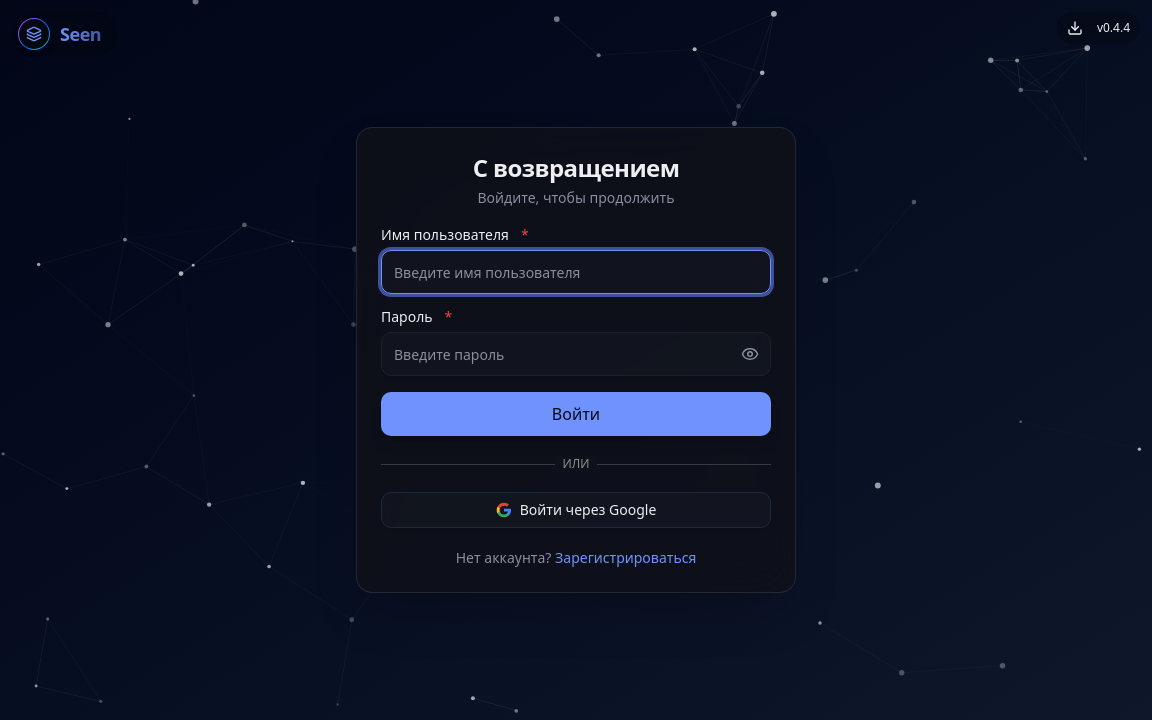
LoginPage › should display error on invalid credentials
This screenshot has width=1152, height=720.
Note: Use valid inputs to pass Zod validation, but invalid for API
Type "wronguser" into the field labelled "Имя пользователя *" at (576, 272), box [381,250,771,294]
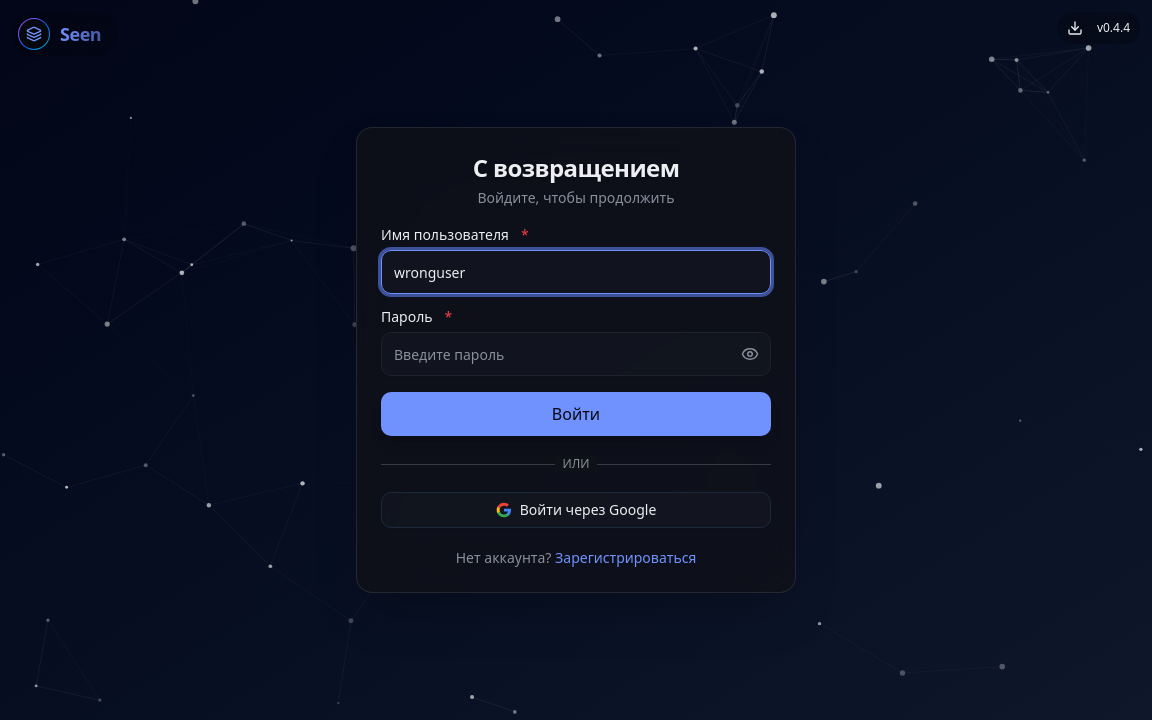
Type "wrongpassword" into the password field labelled "Пароль *" at (576, 354), box [381,332,771,376]
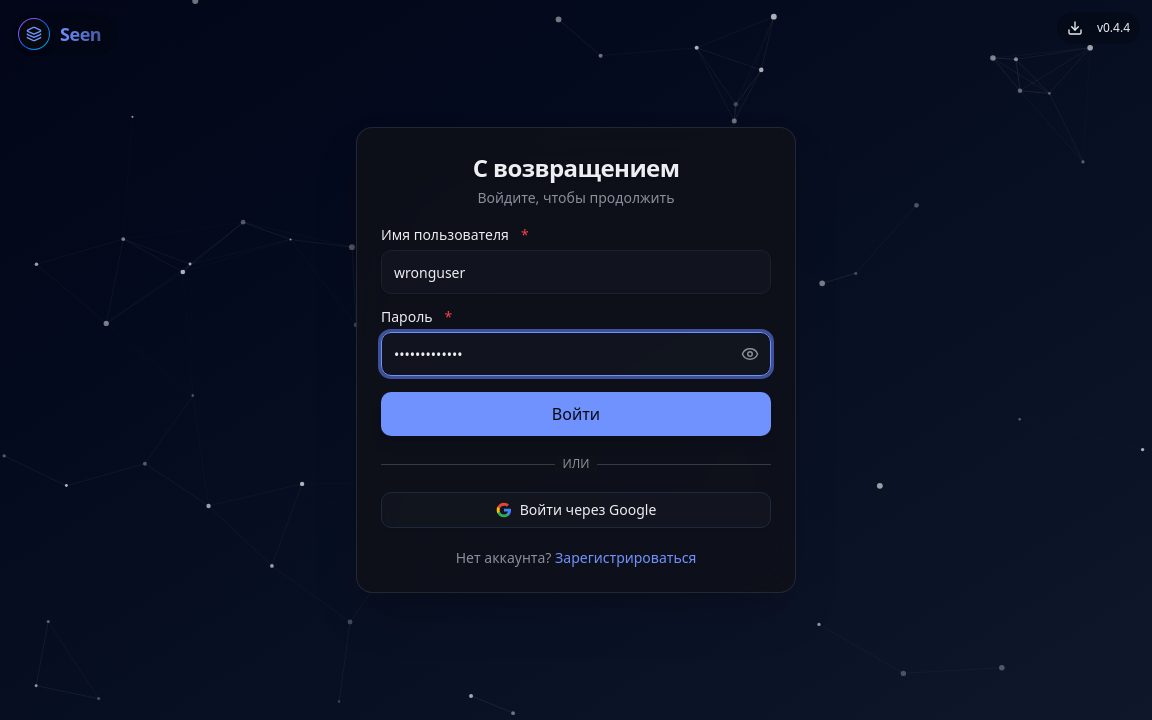
Click the button "Войти" at (576, 414), box [381,392,771,436]
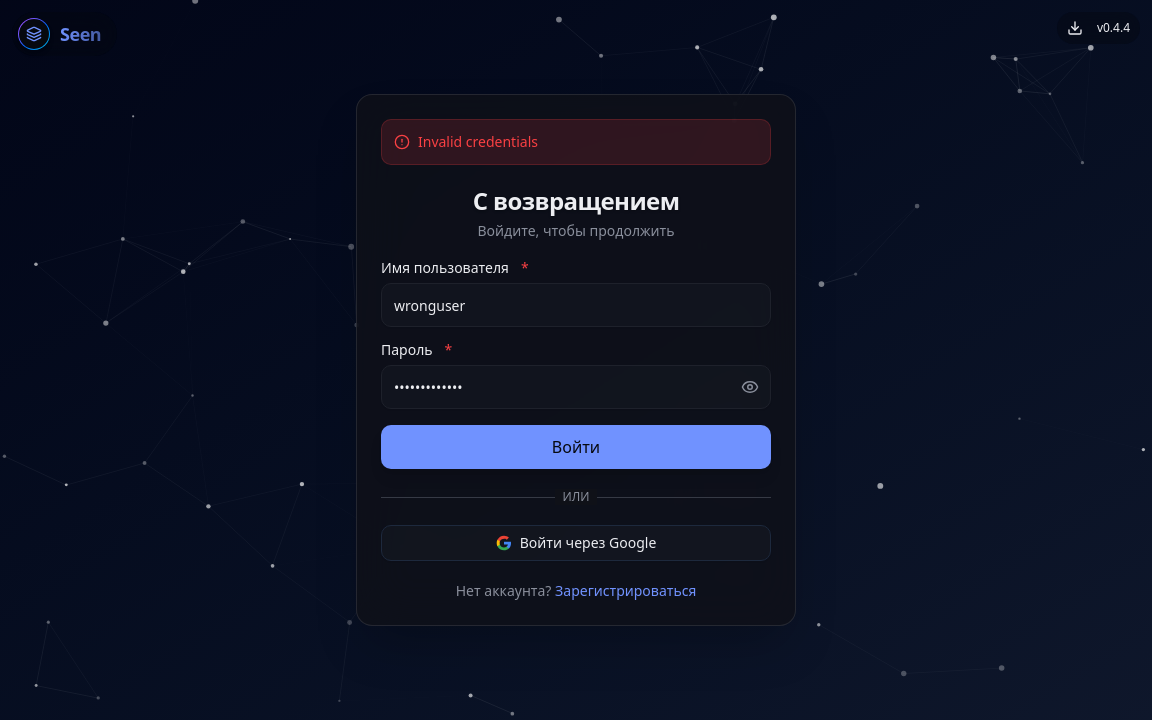
Expected: the text "Invalid credentials" is shown, [418,132,538,152]
